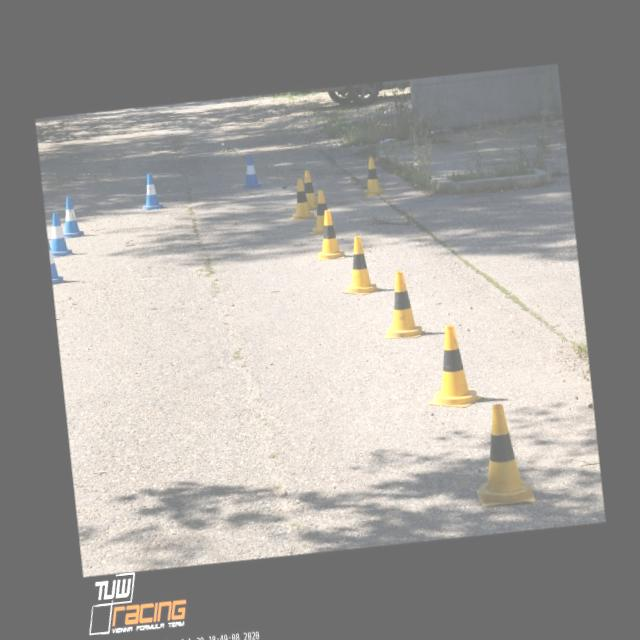blue_cone: (46, 210, 72, 256), (136, 171, 165, 211), (59, 194, 85, 238), (237, 152, 262, 190), (46, 233, 64, 285)
yellow_cone: (467, 399, 537, 508), (420, 322, 485, 412), (376, 268, 426, 342), (336, 233, 382, 296), (312, 207, 346, 260), (305, 188, 338, 235), (286, 178, 317, 222), (360, 155, 387, 196), (302, 168, 318, 210)
